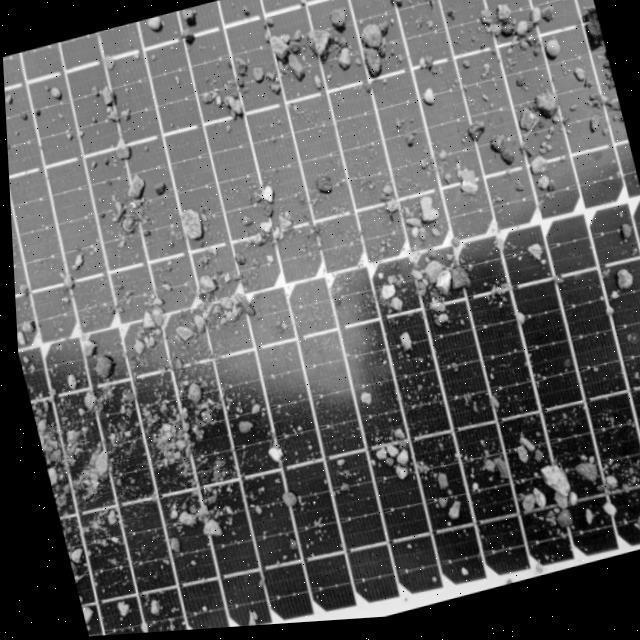Surface Contaminant: (2, 0, 640, 637)
